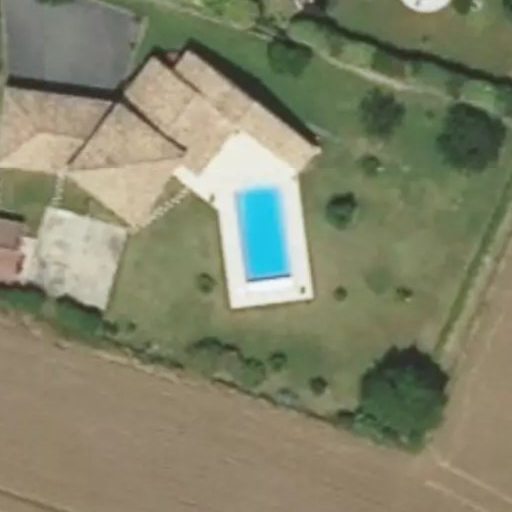pool: (222, 181, 287, 299)
